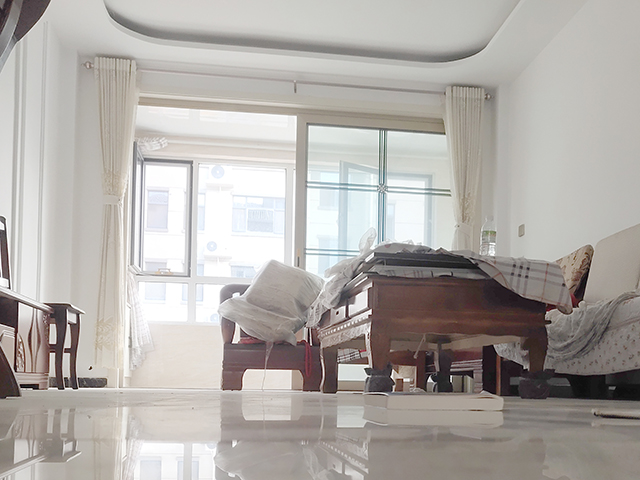cabinet: (1, 286, 55, 399)
carpet: (590, 407, 640, 422)
curtain: (90, 55, 154, 378), (445, 80, 483, 246)
sofa: (550, 224, 640, 399), (216, 282, 323, 391)
stool: (1, 213, 87, 392)
table: (304, 240, 575, 400)
